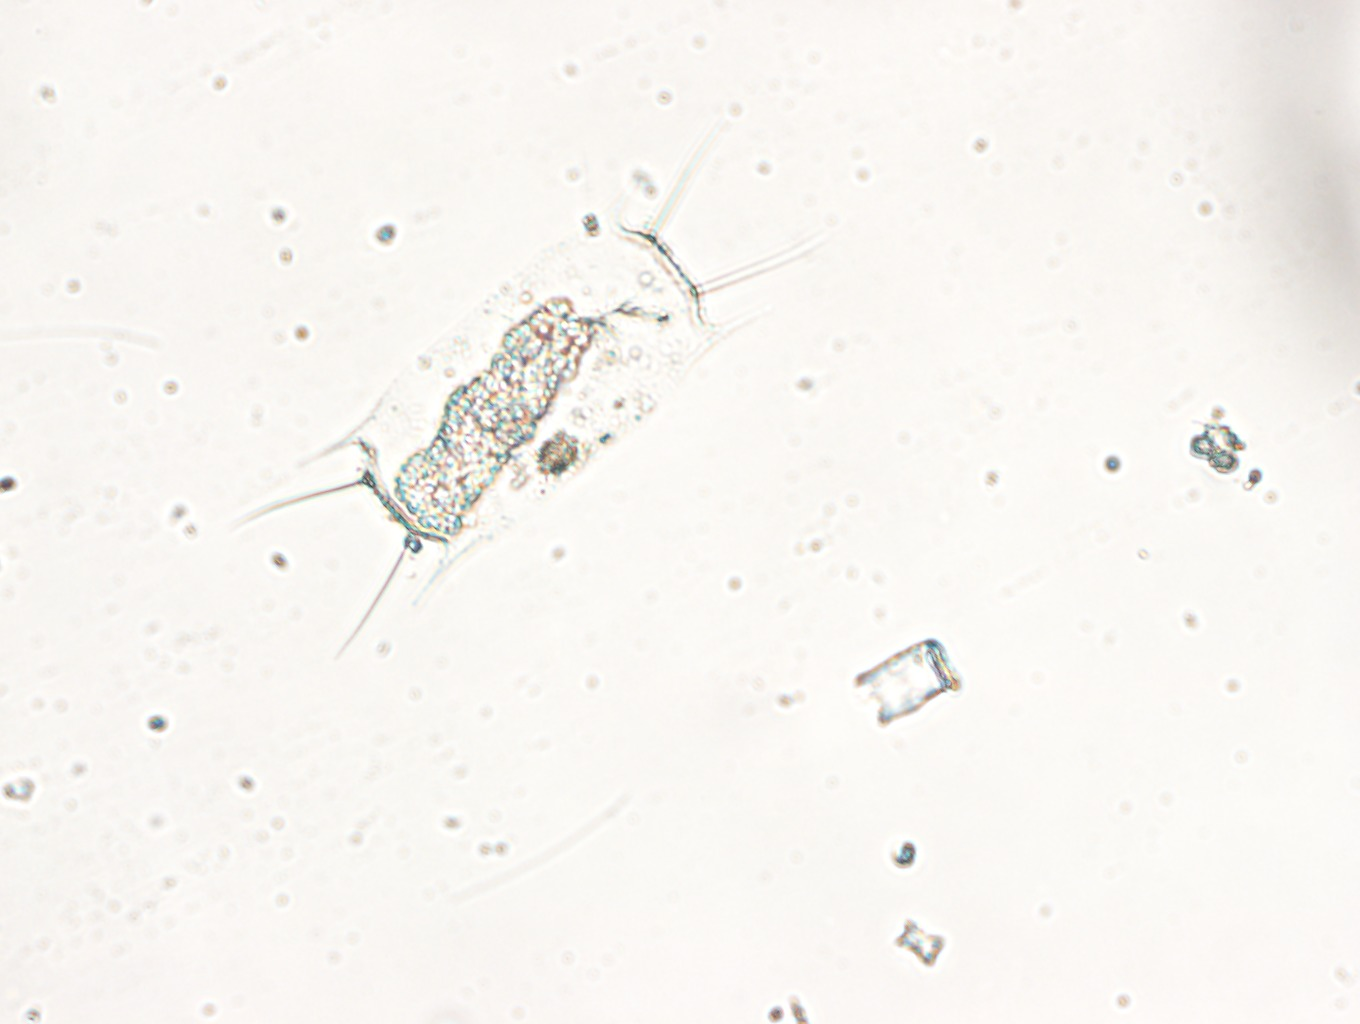biddulphia: (264, 129, 781, 659)
